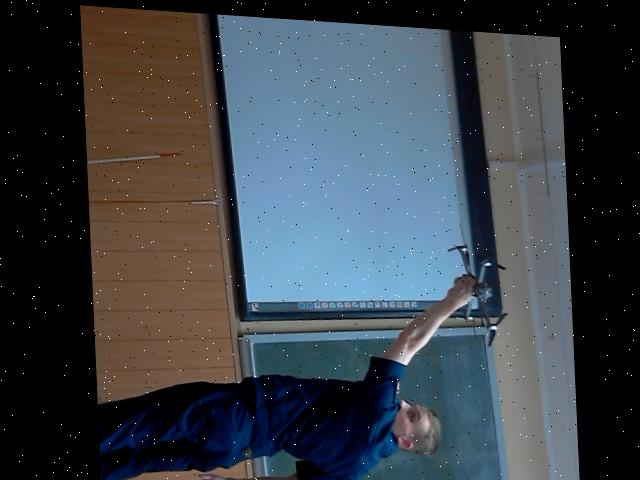drone: (437, 225, 518, 344)
